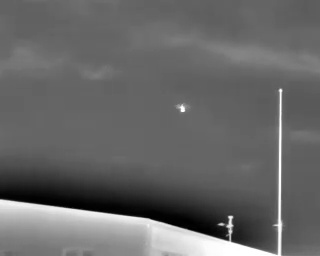HELICOPTER: (173, 100, 193, 116)
